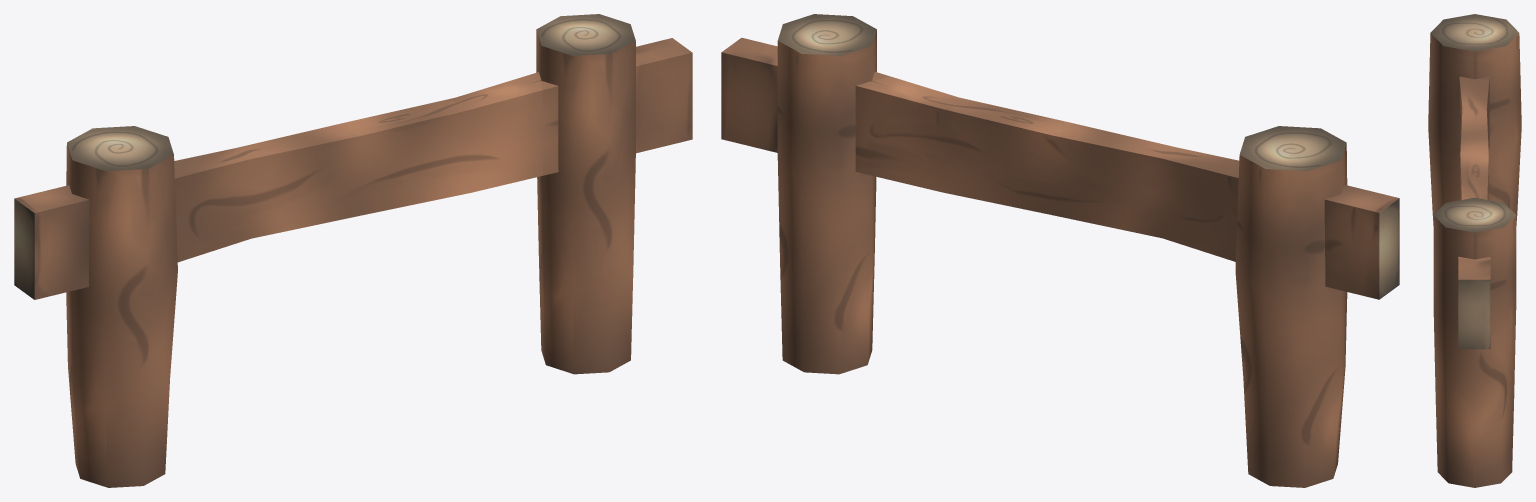
The model's file is Fence.fbx.
The picture shows the model from 3 angles, left to right: view 1: azimuth 30°, elevation 25°; view 2: azimuth 150°, elevation 25°; view 3: azimuth 270°, elevation 25°; orthographic projection. The views are drawn at different scales.
Parts seen in each view (by area): view 1: Fence; view 2: Fence; view 3: Fence.
Part boxes in pixels (box(x1,y1,x2,y2)): Fence: box(14, 14, 692, 487); Fence: box(721, 14, 1399, 487); Fence: box(1428, 14, 1521, 487).
Size of the model in its own units: 386 by 179 by 59.21.
